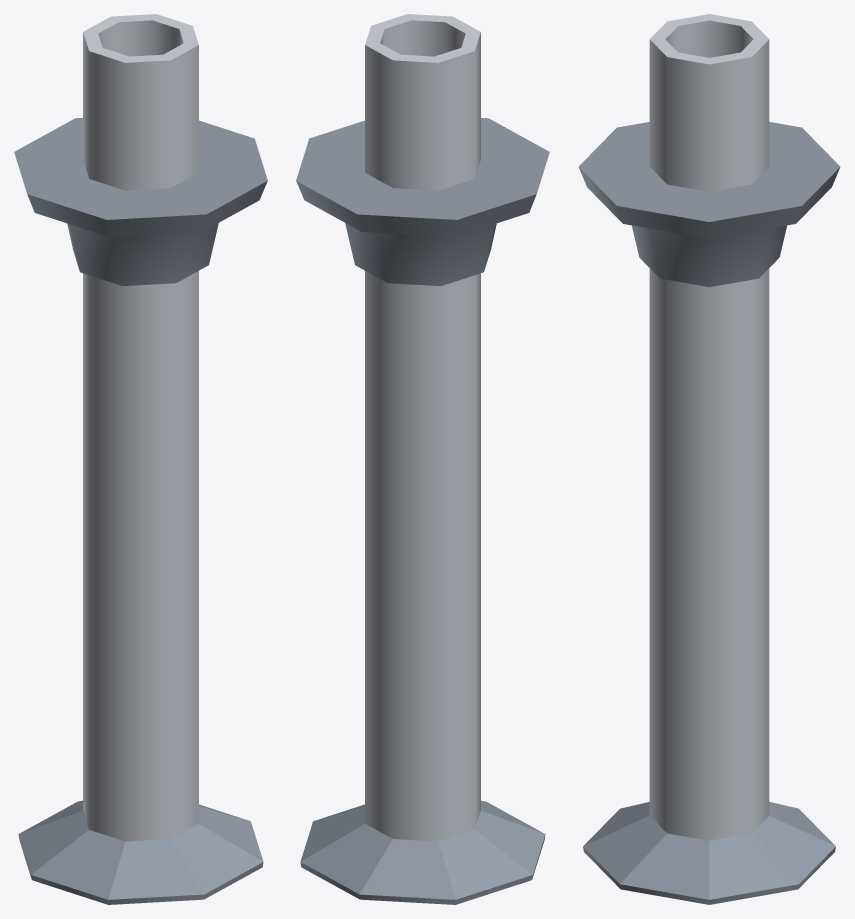
The model's file is bottle_glassware_graduated_cylinder_small_base.glb.
3 views of the same model, side by side, from view 1: azimuth 30°, elevation 25°; view 2: azimuth 150°, elevation 25°; view 3: azimuth 270°, elevation 25° (orthographic).
Parts seen in each view (by area): view 1: bottle_glassware_graduated_cylinder_small, bottle_glassware_graduated_cylinder_small_line, bottle_glassware_graduated_cylinder_small_base; view 2: bottle_glassware_graduated_cylinder_small, bottle_glassware_graduated_cylinder_small_line, bottle_glassware_graduated_cylinder_small_base; view 3: bottle_glassware_graduated_cylinder_small, bottle_glassware_graduated_cylinder_small_line, bottle_glassware_graduated_cylinder_small_base.
Part boxes in pixels (box(x1,y1,x2,y2)): bottle_glassware_graduated_cylinder_small: box(83, 14, 198, 841); bottle_glassware_graduated_cylinder_small_line: box(14, 118, 267, 285); bottle_glassware_graduated_cylinder_small_base: box(18, 800, 263, 904); bottle_glassware_graduated_cylinder_small: box(365, 14, 480, 841); bottle_glassware_graduated_cylinder_small_line: box(296, 118, 549, 285); bottle_glassware_graduated_cylinder_small_base: box(300, 800, 545, 904); bottle_glassware_graduated_cylinder_small: box(649, 14, 769, 840); bottle_glassware_graduated_cylinder_small_line: box(578, 122, 840, 287); bottle_glassware_graduated_cylinder_small_base: box(583, 802, 835, 904).
Bounding box in the file's own units: 6.74 × 23.07 × 6.74.
Materials: 2 (2 with a texture image).
